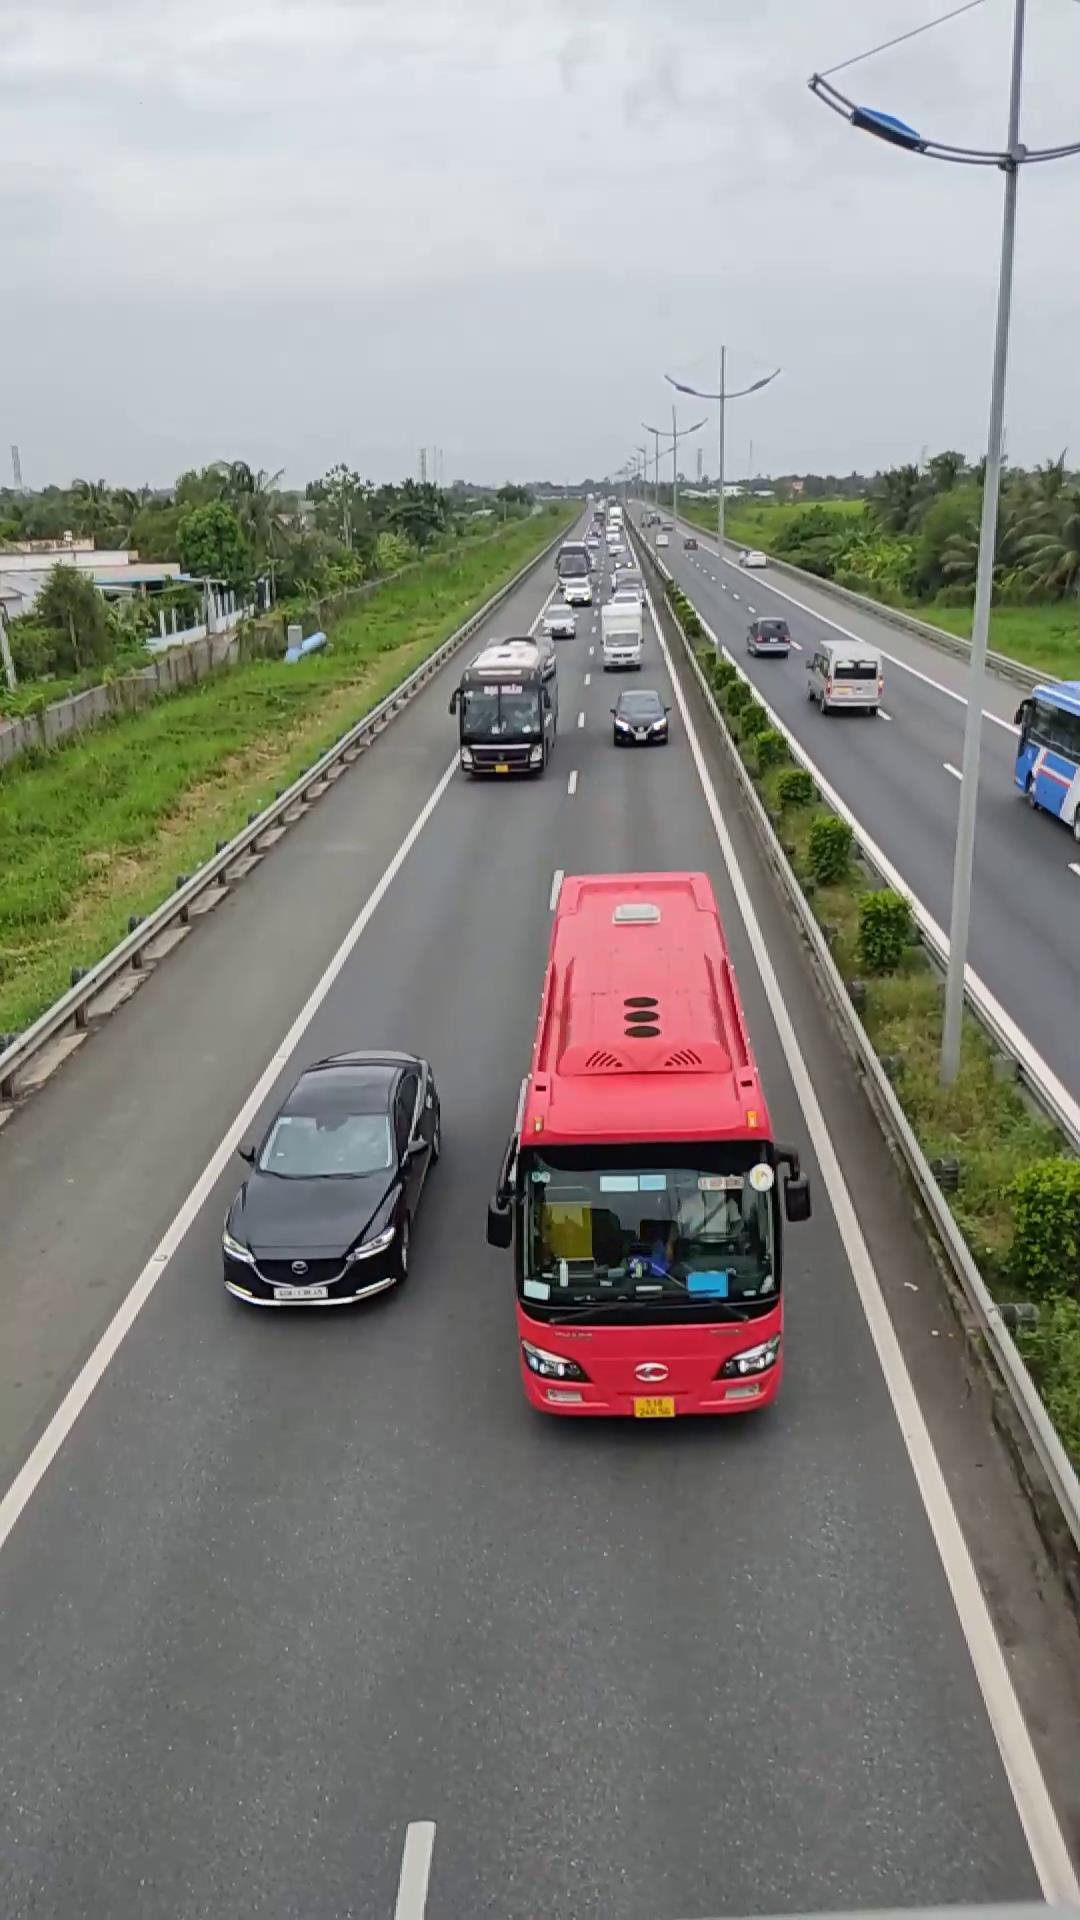bus: (493, 869, 803, 1422), (454, 640, 556, 777)
car: (218, 1047, 444, 1308), (802, 636, 885, 713)
truck: (1013, 675, 1079, 841)
